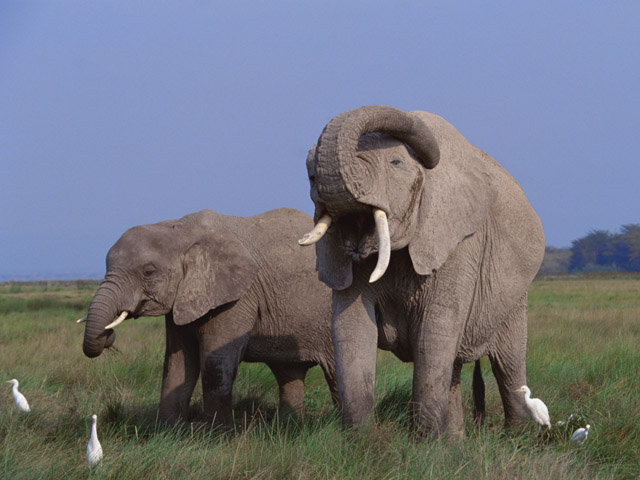elephant: (296, 101, 554, 446), (63, 205, 379, 436)
